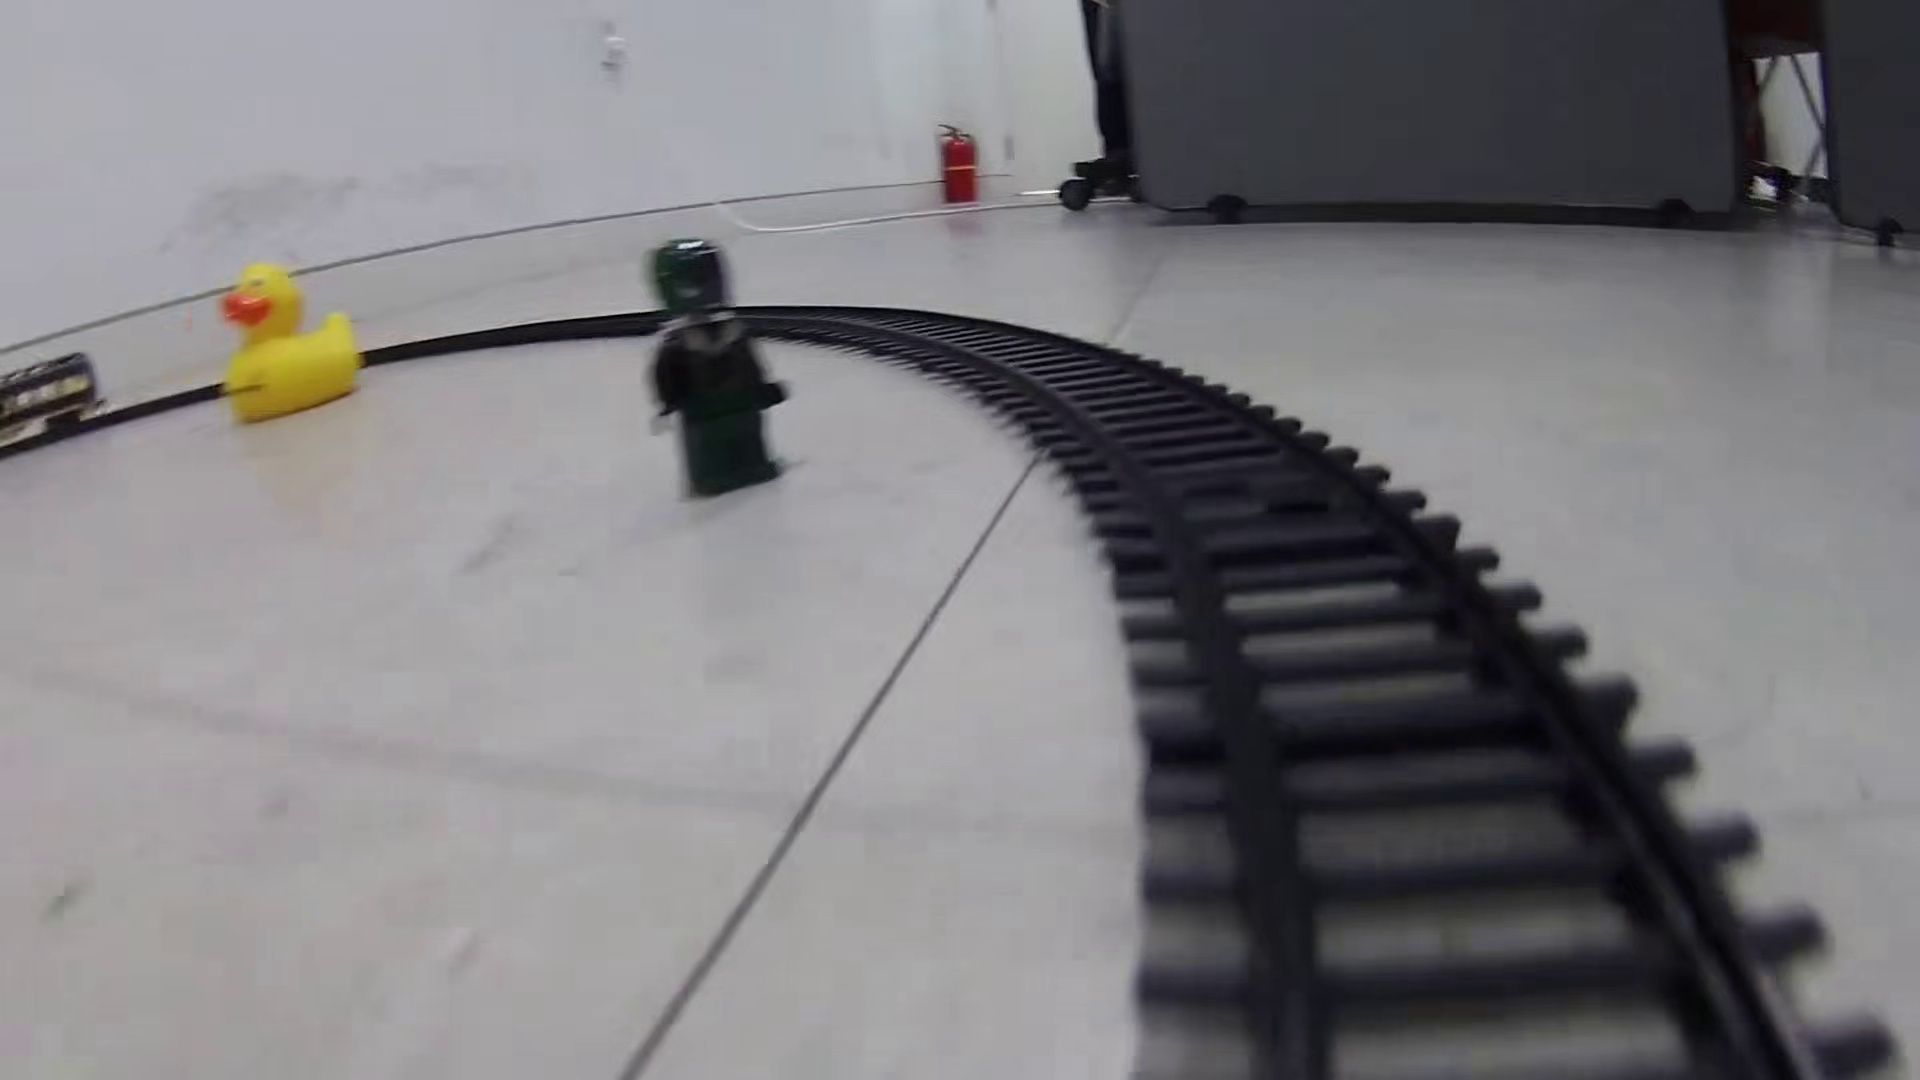people: (642, 237, 797, 503)
